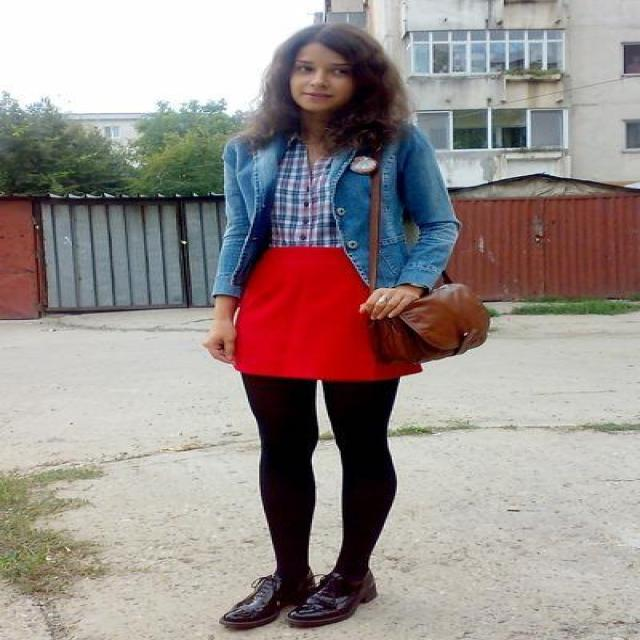bag: (365, 270, 496, 364)
jacket: (192, 129, 478, 307)
shirt: (269, 147, 357, 260)
shoe: (219, 566, 376, 630)
skirt: (230, 246, 421, 381)
